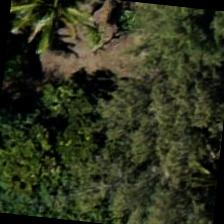Kelapa_Sawit: (7, 0, 103, 47)
